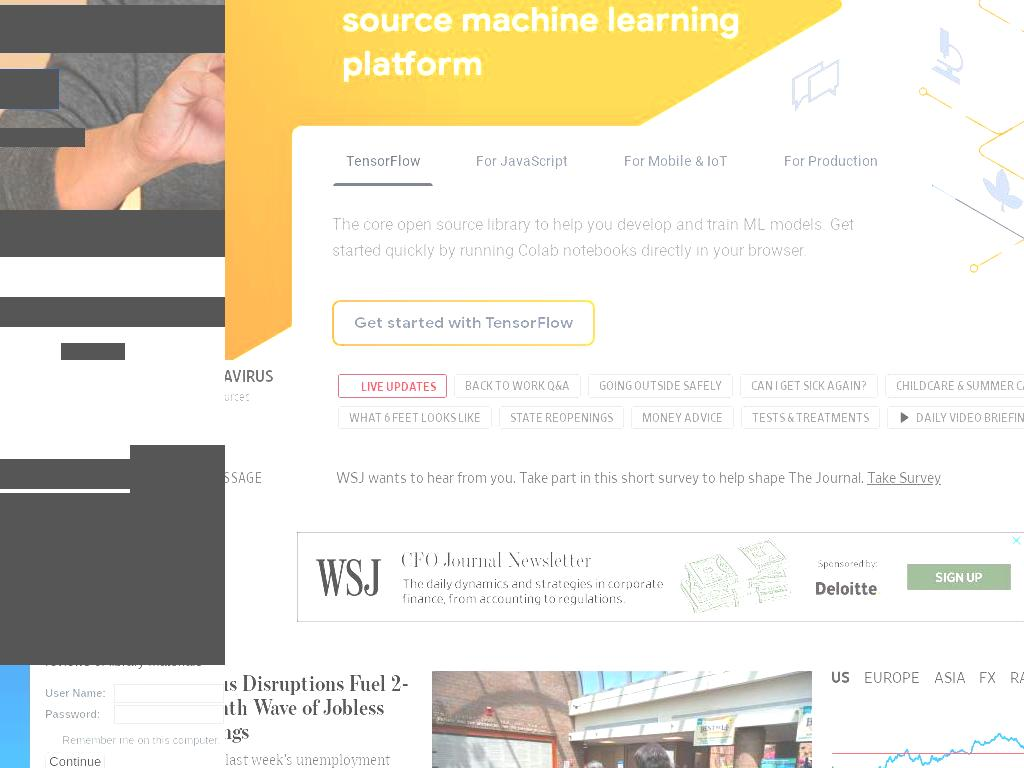button: (432, 671, 812, 768), (0, 210, 225, 257), (338, 406, 492, 429), (588, 374, 733, 398), (885, 374, 1024, 398), (740, 374, 878, 398), (741, 406, 880, 429), (887, 406, 1024, 429), (454, 374, 581, 398), (499, 406, 624, 429), (338, 374, 447, 398), (631, 406, 734, 429), (0, 69, 59, 109), (0, 128, 85, 147)
field: (0, 5, 225, 53), (114, 684, 225, 703), (114, 705, 225, 724), (45, 752, 106, 768), (45, 731, 59, 744)
heading: (0, 297, 225, 327)
iframe: (297, 532, 1024, 622)
image: (432, 671, 812, 768), (0, 514, 225, 665), (130, 445, 225, 601), (831, 693, 1024, 768), (61, 343, 125, 360), (203, 17, 225, 41), (899, 412, 910, 423), (349, 381, 361, 391), (136, 476, 145, 485), (10, 468, 15, 473)
label: (62, 734, 221, 746), (45, 687, 107, 699), (45, 708, 101, 720)
link: (225, 671, 409, 768), (0, 493, 225, 531), (136, 224, 225, 241), (64, 493, 156, 508), (867, 472, 941, 486), (225, 368, 273, 385), (5, 516, 42, 531)
text: (225, 622, 1024, 640), (0, 516, 225, 554), (336, 472, 867, 486), (0, 459, 225, 489), (45, 639, 225, 669), (0, 564, 225, 587), (0, 539, 186, 554), (0, 224, 137, 241), (225, 468, 316, 491), (916, 413, 1024, 424), (361, 381, 436, 394), (863, 671, 920, 687), (45, 639, 90, 654), (933, 671, 966, 687), (225, 391, 250, 404), (831, 671, 850, 687), (979, 671, 997, 687), (1010, 671, 1024, 687), (156, 493, 164, 508)
